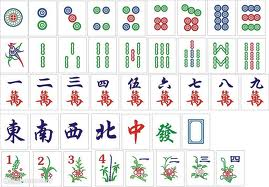1W: (4, 76, 26, 110)
1i: (2, 40, 26, 70)
1o: (3, 4, 25, 32)
2W: (35, 76, 53, 109)
2i: (36, 41, 51, 71)
2o: (31, 5, 54, 33)
3W: (64, 75, 85, 109)
3i: (63, 40, 83, 71)
3o: (62, 5, 83, 32)
4W: (93, 78, 115, 110)
4i: (92, 41, 112, 72)
4o: (90, 4, 111, 32)
5W: (125, 76, 145, 109)
5i: (122, 40, 144, 71)
5o: (120, 5, 141, 32)
6W: (156, 76, 174, 108)
6i: (152, 41, 172, 72)
6o: (151, 2, 170, 33)
7W: (185, 76, 206, 109)
7i: (181, 39, 201, 71)
7o: (179, 2, 203, 34)
8W: (216, 76, 235, 108)
8i: (211, 40, 231, 71)
8o: (213, 4, 231, 33)
9W: (245, 75, 265, 108)
9i: (239, 39, 262, 72)
9o: (240, 4, 263, 33)
East: (3, 117, 27, 145), (61, 117, 84, 145)
Green: (155, 118, 177, 146)
Red: (126, 116, 147, 146)
South: (34, 117, 54, 146)
West: (94, 117, 118, 145)
White: (186, 117, 206, 147)
